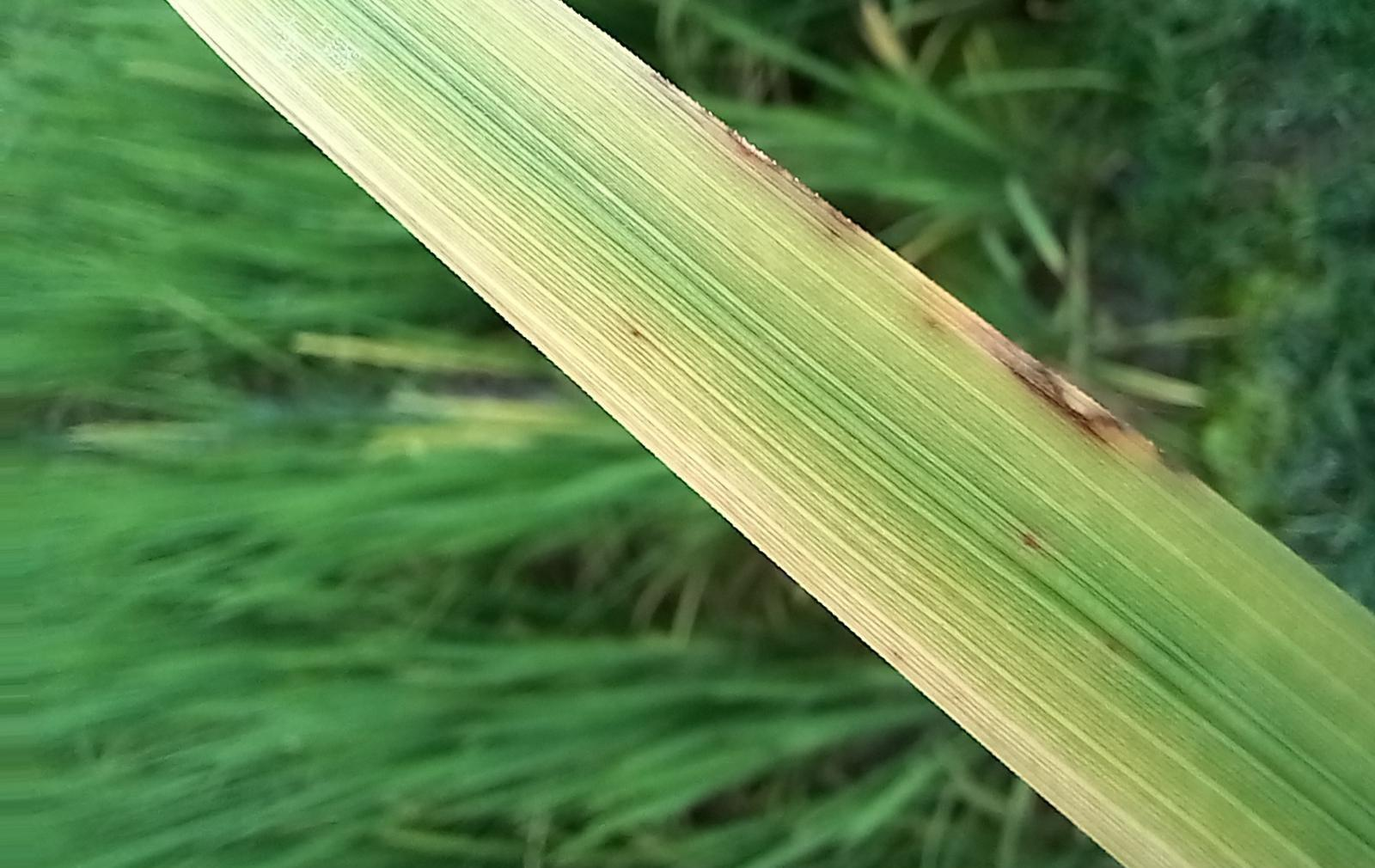LEAF: (171, 0, 1374, 867)
LEAF BLAST: (930, 285, 1140, 443)
